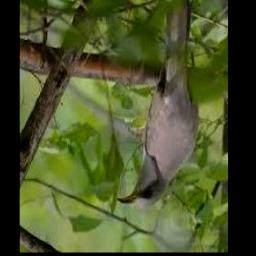Cuckoo: (117, 0, 198, 207)
